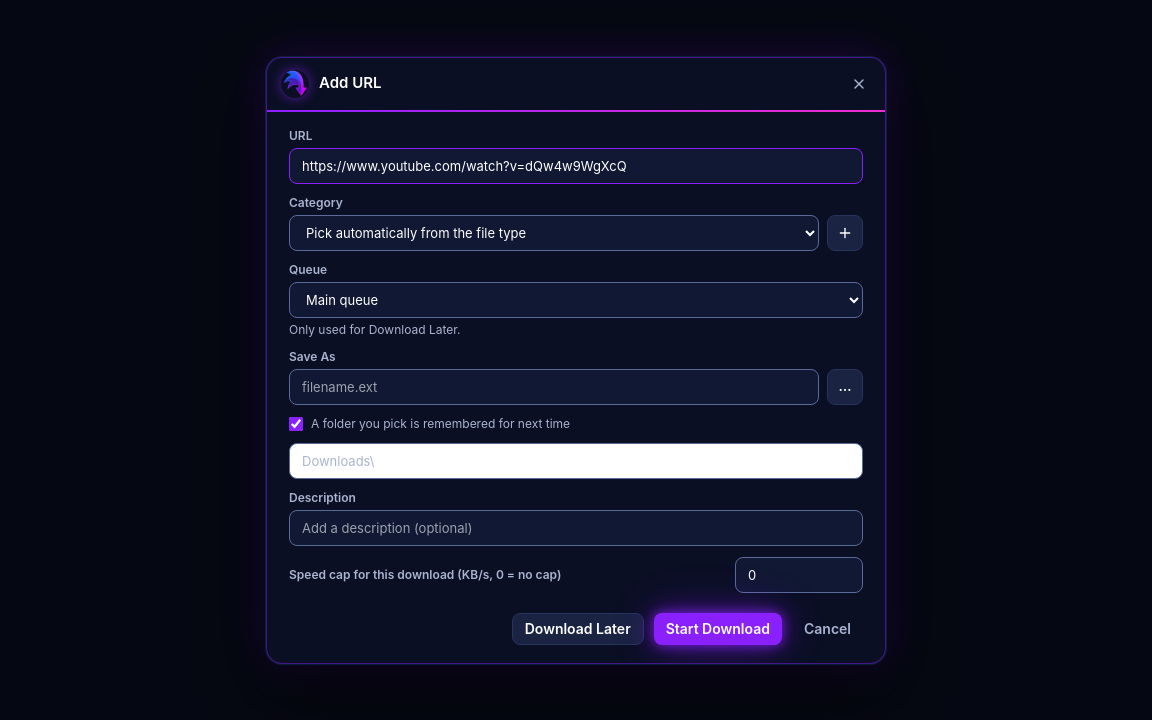
video URL submit › a live stream is refused with no download
The image size is (1152, 720).
Click the button "Start Download".
click(718, 628)  # box 654,612 -> 782,644
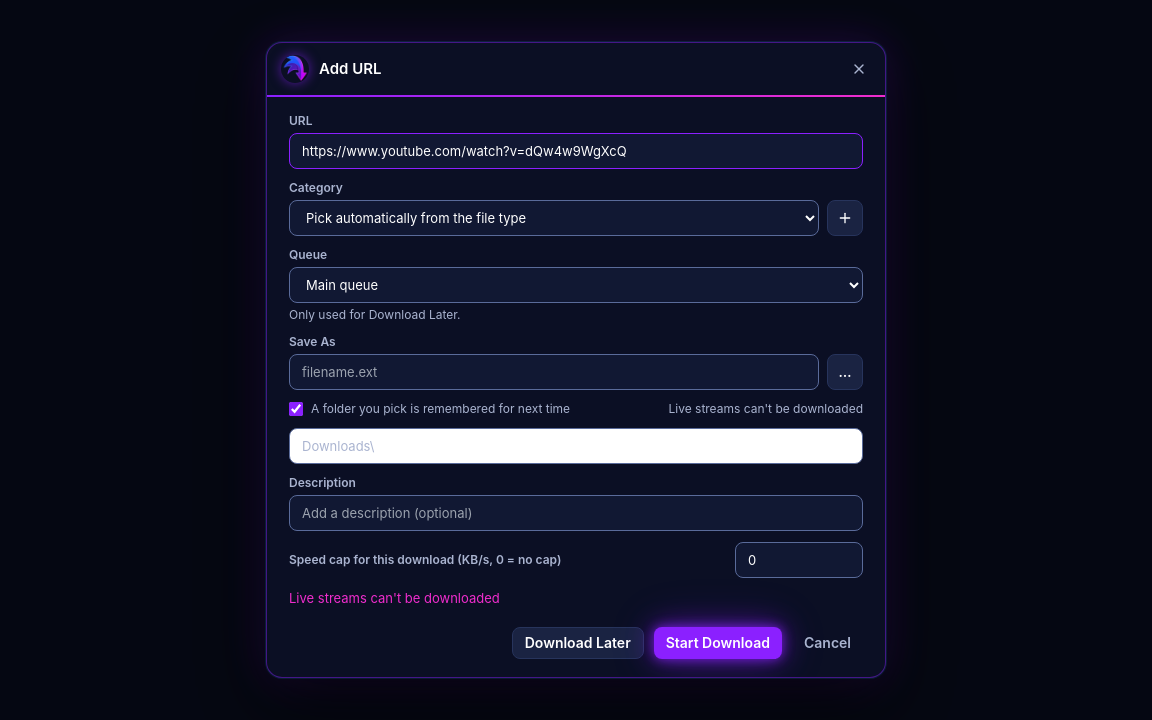
Result: the message "Live streams can't be downloaded" is shown at 289,590 -> 500,606
